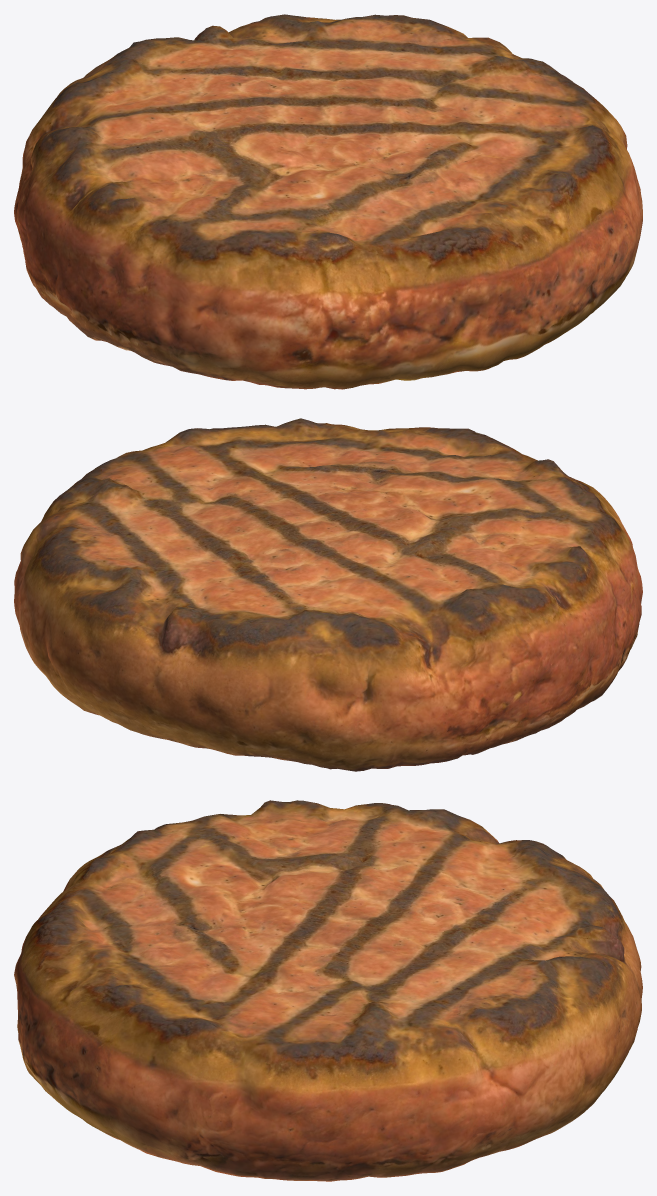
Rendered from cooked_burger_patty_-_meatball.glb.
3 views of the same model, one above another, from view 1: azimuth 30°, elevation 25°; view 2: azimuth 150°, elevation 25°; view 3: azimuth 270°, elevation 25° (orthographic). The views are drawn at different scales.
Visible parts, largest first — view 1: Object_8; view 2: Object_8; view 3: Object_8.
Part boxes in pixels (x1=…): Object_8: x1=14, y1=14, x2=642, y2=389; Object_8: x1=14, y1=418, x2=642, y2=771; Object_8: x1=14, y1=800, x2=642, y2=1181.
Size of the model in its own units: 2 by 0.5327 by 1.97.
Materials: 1 (1 with a texture image).
